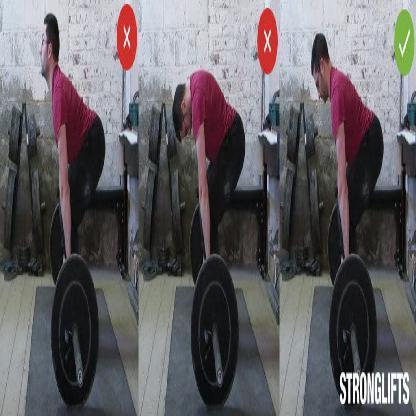barbell: (327, 255, 380, 406), (190, 255, 240, 413), (51, 254, 101, 410)
